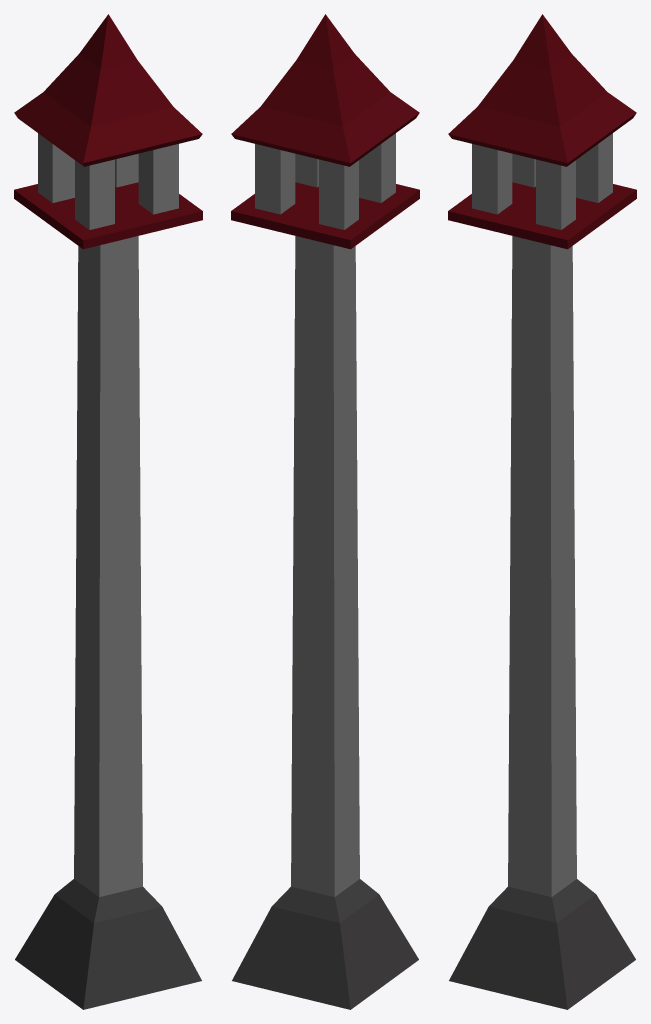
File: Lamp.fbx
3 renders of one model, left to right at view 1: azimuth 30°, elevation 25°; view 2: azimuth 150°, elevation 25°; view 3: azimuth 330°, elevation 25°, orthographic.
Visible parts, largest first — view 1: Lamp; view 2: Lamp; view 3: Lamp.
Boxes of the visible parts, x1=… form: Lamp: x1=14, y1=14, x2=202, y2=1009; Lamp: x1=231, y1=14, x2=419, y2=1009; Lamp: x1=448, y1=14, x2=636, y2=1009.
Bounding box in the file's own units: 37.48 × 286 × 37.48.
